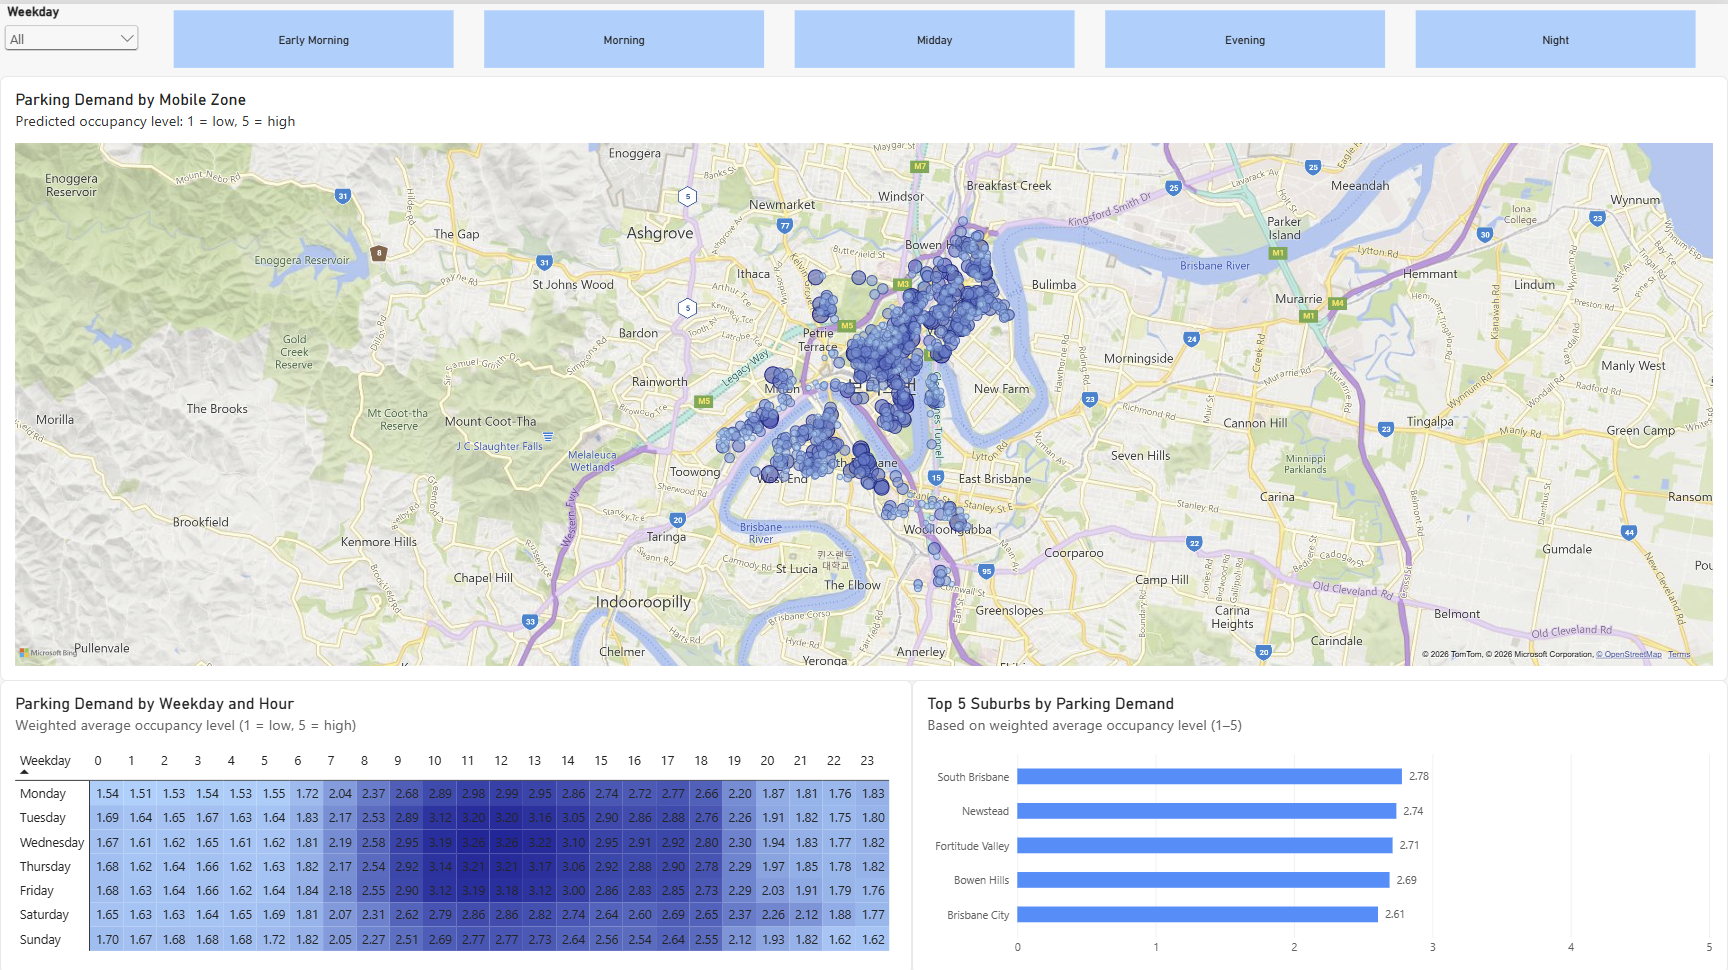

This screenshot's page, from the dashboard's own definition file:
{"tool":"powerbi","page":{"name":"Parking Demand Overview","canvas":[1920,1080],"ordinal":0},"visuals":[{"type":"map","title":"Parking Demand by Mobile Zone","fields":{"Size":["Parking Forecast.Bubble Size"],"X":["Parking Meter.Longitude"],"Y":["Parking Meter.Latitude"]},"box":[0,79.5,1920,672.6],"z":0},{"type":"slicer","fields":{"Values":["Parking Forecast.Weekday"]},"box":[0,0,159.1,79.5],"z":1000},{"type":"advancedSlicerVisual","fields":{"Values":["Parking Forecast.Time of Day"]},"box":[160,0,1760,80],"z":2000},{"type":"clusteredBarChart","title":"Top 5 Suburbs by Parking Demand","fields":{"Category":["Parking Meter.Primary Suburb"],"Y":["Parking Forecast.Weighted Avg Occupancy Level"]},"box":[1013.4,752.1,906.6,327.2],"z":3000},{"type":"pivotTable","title":"Parking Demand by Weekday and Hour","fields":{"Columns":["Parking Forecast.Hour"],"Rows":["Parking Forecast.Weekday"],"Values":["Parking Forecast.Weighted Avg Occupancy Level"]},"box":[0,752.1,1013.4,327.2],"z":4000}]}

Visuals, with their boxes in screenshot pixels (x1, y1, x2, y2), scaled from the page's 1920x1080 canvas onto the 1728x970 screenshot:
"Parking Demand by Mobile Zone" map: 0,71,1727,675
slicer - Parking Forecast.Weekday: 0,0,143,71
advancedSlicerVisual - Parking Forecast.Time of Day: 144,0,1727,72
"Top 5 Suburbs by Parking Demand" clusteredBarChart: 912,675,1727,969
"Parking Demand by Weekday and Hour" pivotTable: 0,675,912,969
